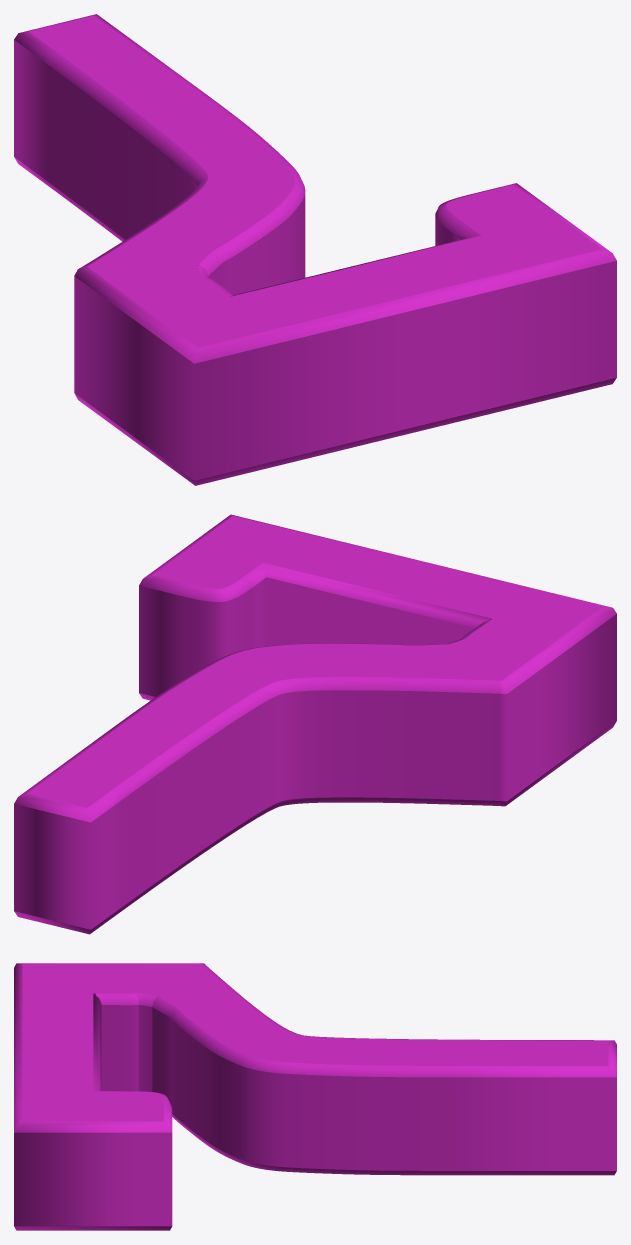
File: Number_7_CoolFont.fbx
The picture shows the model from 3 angles, top to bottom: view 1: azimuth 30°, elevation 25°; view 2: azimuth 150°, elevation 25°; view 3: azimuth 270°, elevation 25°; orthographic projection. The views are drawn at different scales.
Parts seen in each view (by area): view 1: Number_7; view 2: Number_7; view 3: Number_7.
Boxes of the visible parts, x1,y1,x2,y2 form: Number_7: (14,14,616,485); Number_7: (14,514,616,934); Number_7: (14,963,616,1230).
Bounding box in the file's own units: 0.4536 × 0.14 × 0.7012.
